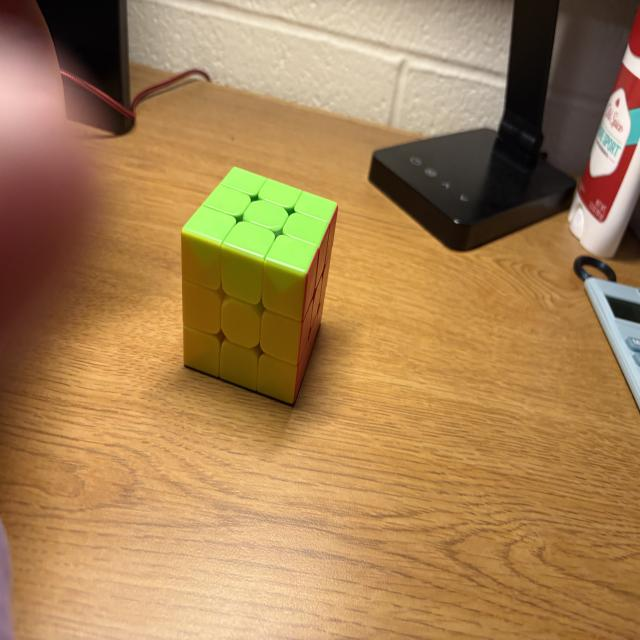Rubiks Cube: (183, 165, 337, 406)
